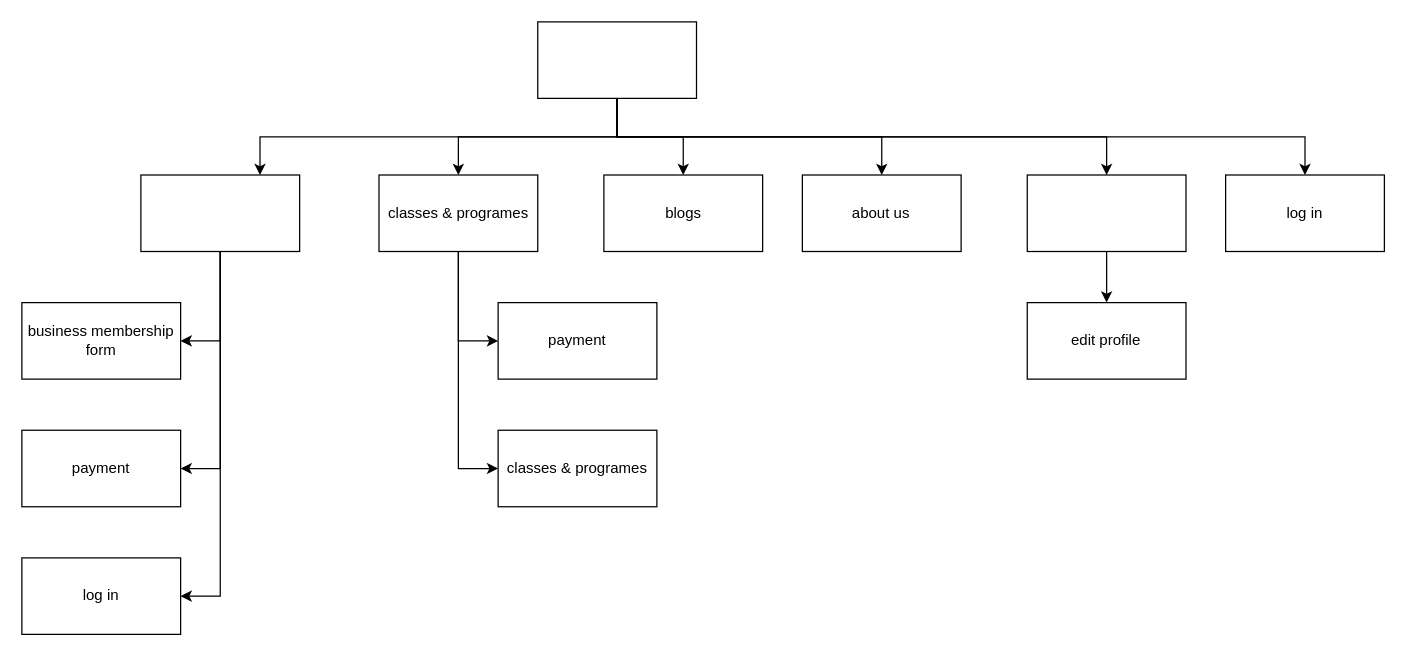
Image size: 1406x656. Some labels were removed from this diagram. Here are the shapes that lost their labels. From the top down, the centre of each, then its label:
At (x=616, y=59): "home".
At (x=220, y=213): "membership".
At (x=1106, y=213): "user profile".
